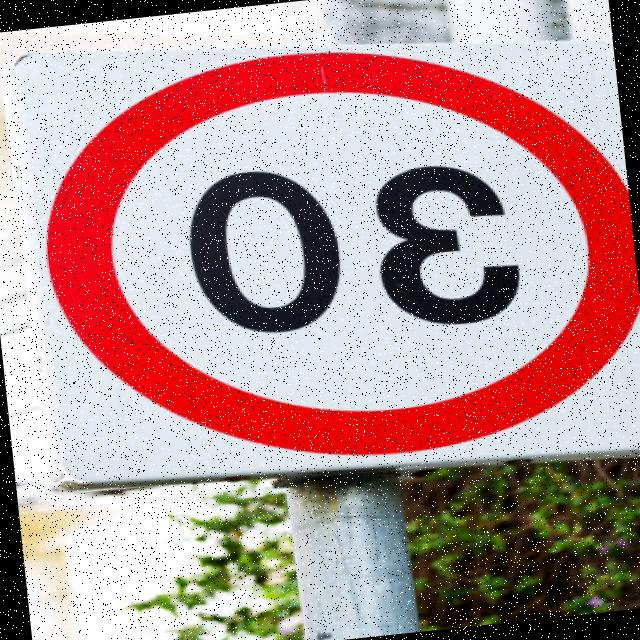speed_limit_30: (39, 19, 640, 486)
